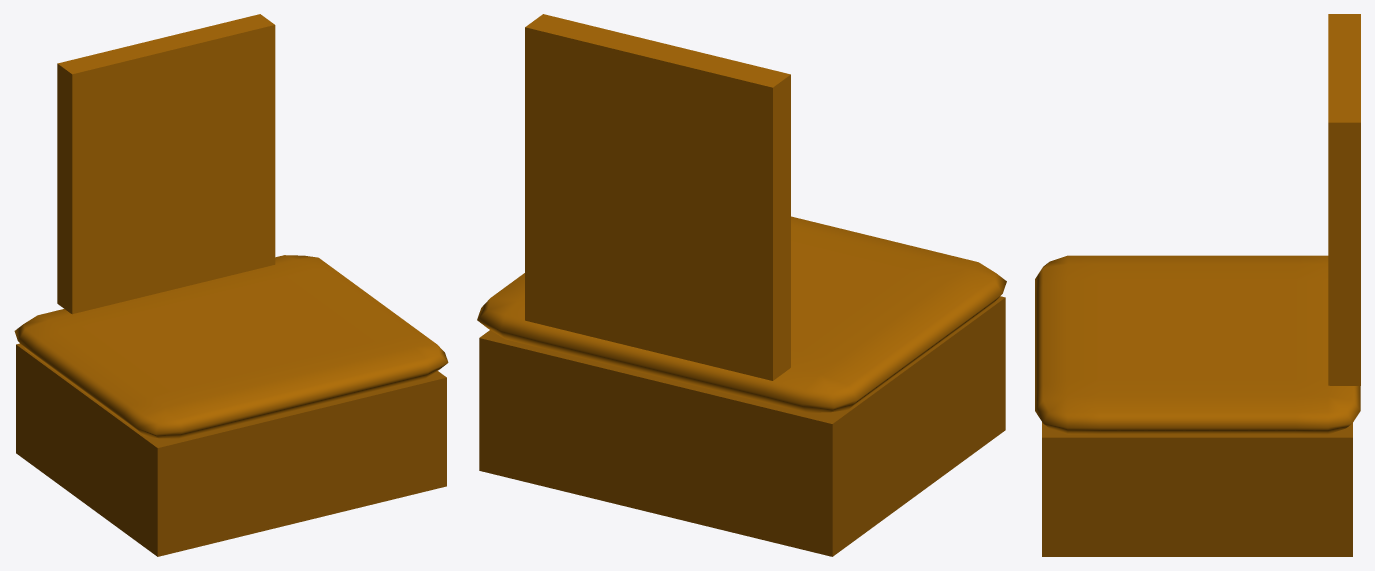
Rendered from Couch Chair Frame.fbx.
3 views of the same model, side by side, from view 1: azimuth 30°, elevation 25°; view 2: azimuth 150°, elevation 25°; view 3: azimuth 270°, elevation 25° (orthographic). The views are drawn at different scales.
Visible parts, largest first — view 1: Cube.003, Cube.008, Cube; view 2: Cube.003, Cube.008, Cube; view 3: Cube, Cube.008, Cube.003.
Part boxes in pixels (<box>): Cube.003: <box>57,14,275,314</box>; Cube.008: <box>16,343,446,556</box>; Cube: <box>14,255,448,438</box>; Cube.003: <box>525,14,790,380</box>; Cube.008: <box>479,296,1005,556</box>; Cube: <box>477,216,1006,412</box>; Cube: <box>1035,255,1360,434</box>; Cube.008: <box>1042,422,1352,556</box>; Cube.003: <box>1328,14,1360,385</box>.
Bounding box in the file's own units: 120 × 140 × 100.
